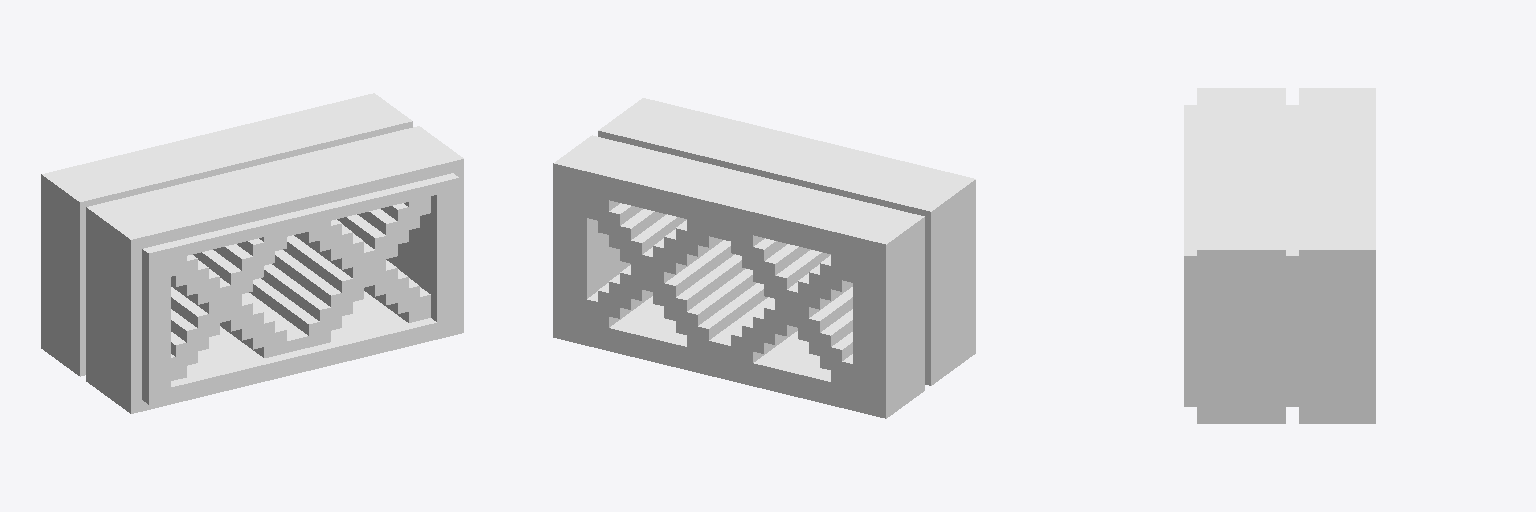
The model's file is block_typeA1.obj.
The picture shows the model from 3 angles: view 1: azimuth 30°, elevation 25°; view 2: azimuth 150°, elevation 25°; view 3: azimuth 270°, elevation 25°; orthographic projection.
Parts seen in each view (by area): view 1: block_typeA1; view 2: block_typeA1; view 3: block_typeA1.
Part boxes in pixels (left/top/right/bottom): block_typeA1: left=41, top=93, right=463, bottom=413; block_typeA1: left=553, top=98, right=975, bottom=418; block_typeA1: left=1184, top=88, right=1375, bottom=423.
Bounding box in the file's own units: 0.2 × 0.1 × 0.1.